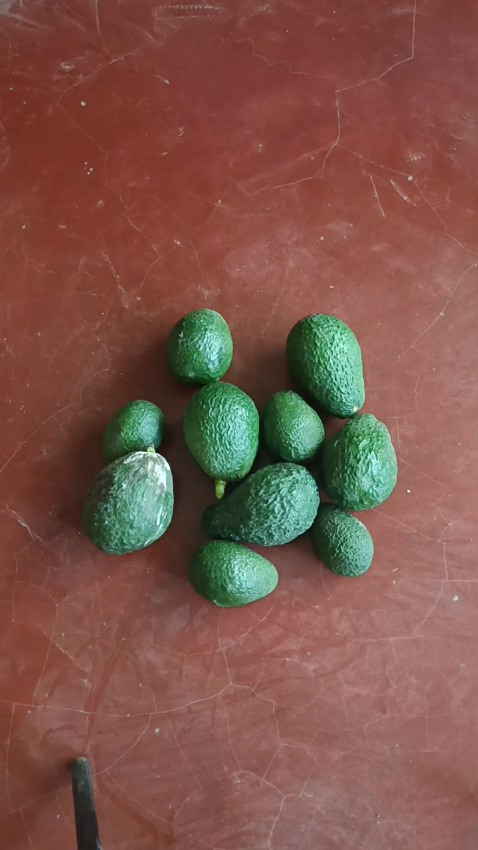Primera: (81, 449, 175, 553), (202, 463, 319, 546), (285, 312, 365, 415), (182, 381, 261, 481), (320, 412, 398, 509)
Segunda: (188, 539, 279, 606), (165, 308, 233, 384)
Tercera: (308, 503, 373, 577), (261, 390, 325, 464), (102, 399, 167, 462)
